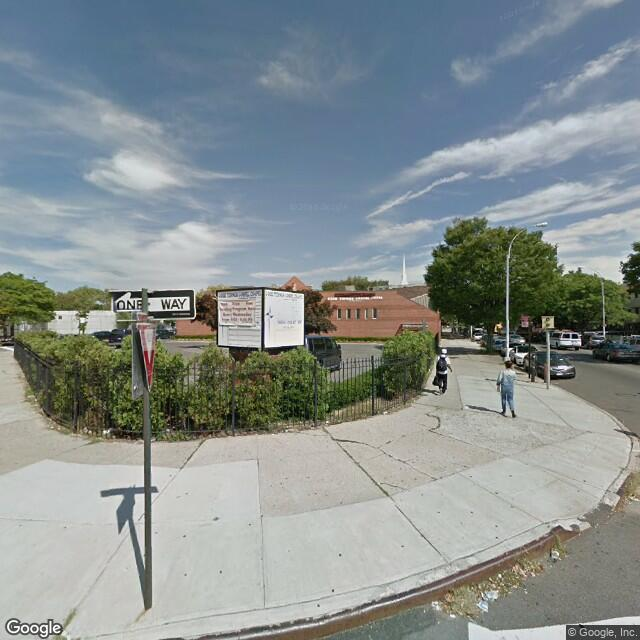litter: (412, 539, 576, 615)
